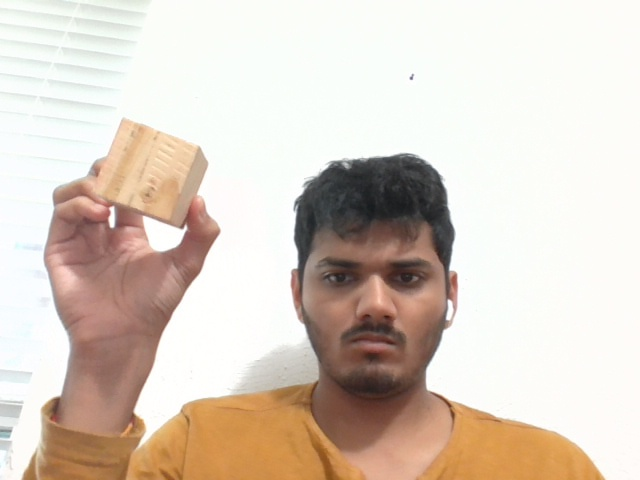NormalBlock: (94, 118, 206, 229)
